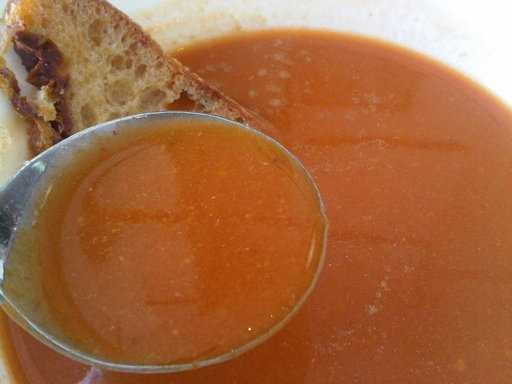soup: (4, 20, 482, 378)
